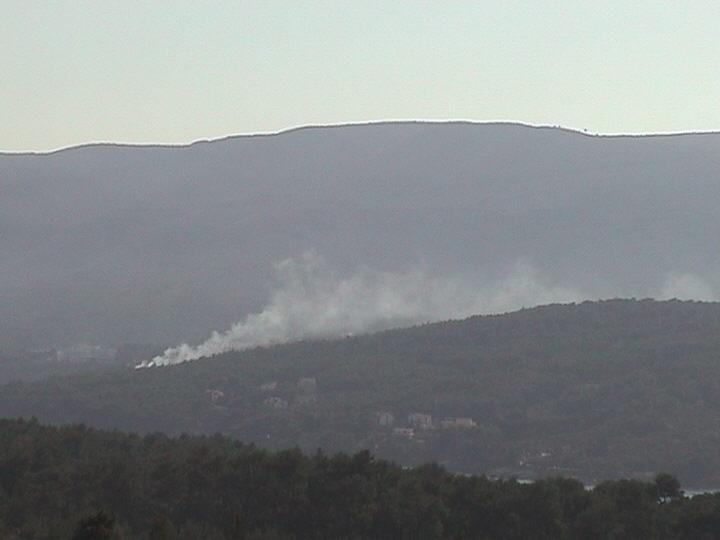Smoke: (137, 250, 593, 371)
